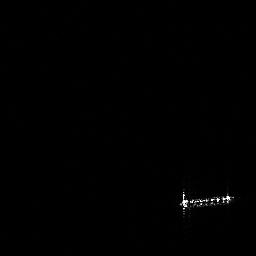ship: (181, 195, 232, 209)
